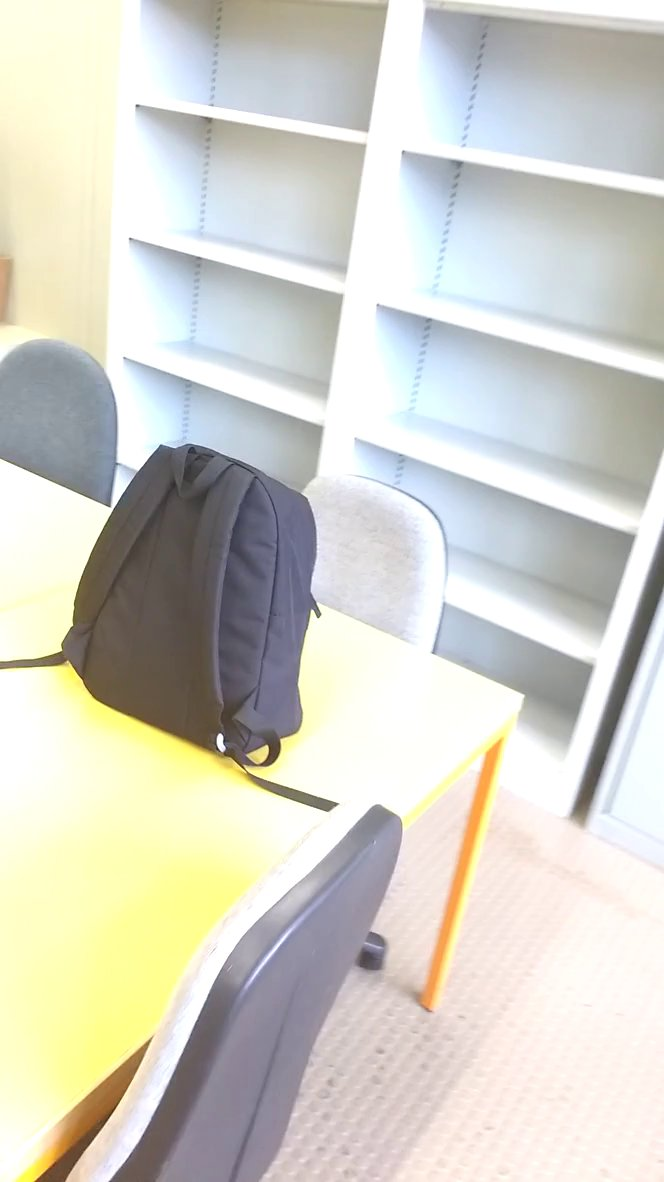bag: (53, 434, 323, 781)
chair: (54, 794, 413, 1182), (280, 455, 475, 674), (3, 334, 127, 526)
